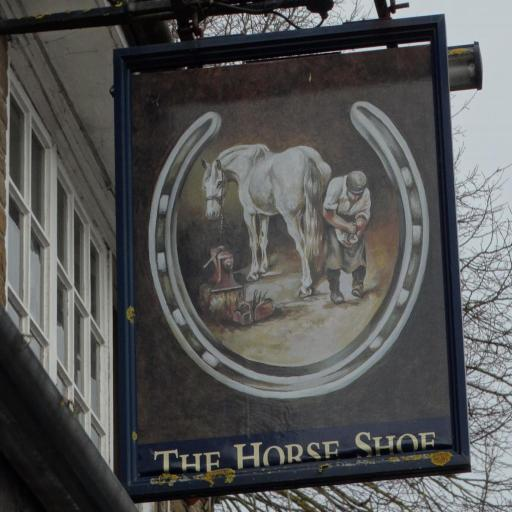horse: (202, 143, 334, 296)
